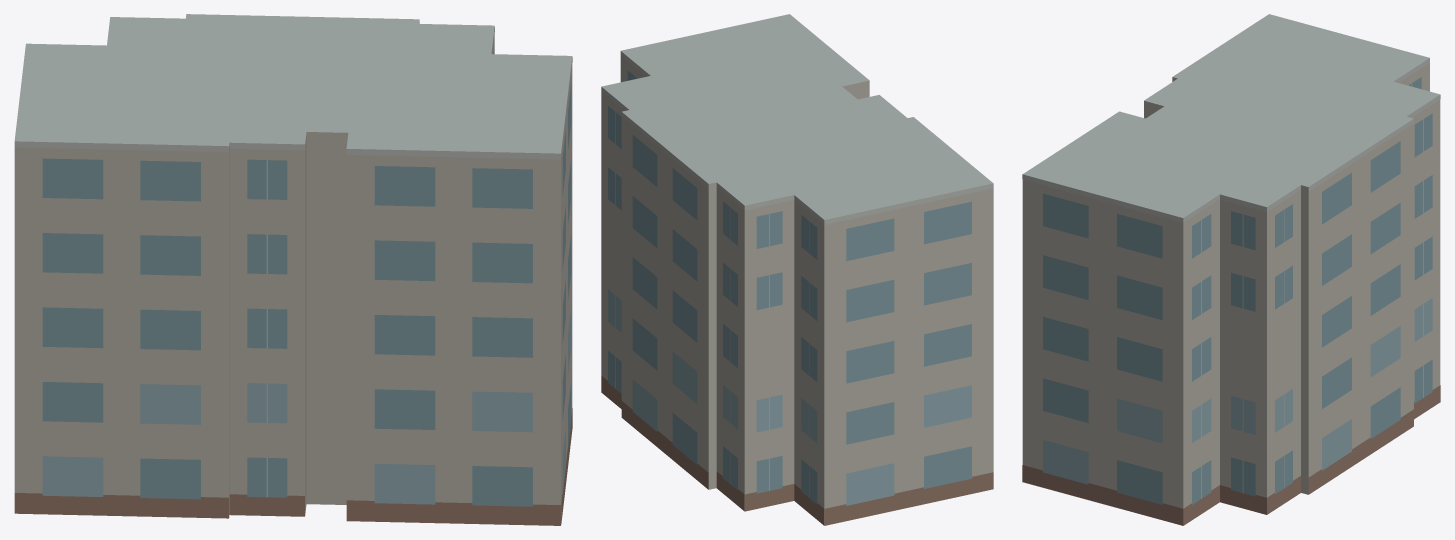
Rendered from survey-upis-33029891.glb.
3 renders of one model, left to right at view 1: azimuth 30°, elevation 25°; view 2: azimuth 150°, elevation 25°; view 3: azimuth 270°, elevation 25°, orthographic. The views are drawn at different scales.
Parts seen in each view (by area): view 1: survey-upis-33029891.tmp; view 2: survey-upis-33029891.tmp; view 3: survey-upis-33029891.tmp.
Boxes of the visible parts, x1,y1,x2,y2 form: survey-upis-33029891.tmp: (14, 14, 572, 525); survey-upis-33029891.tmp: (601, 14, 993, 525); survey-upis-33029891.tmp: (1022, 14, 1440, 525).
Bounding box in the file's own units: 21.63 × 15.2 × 18.72.
